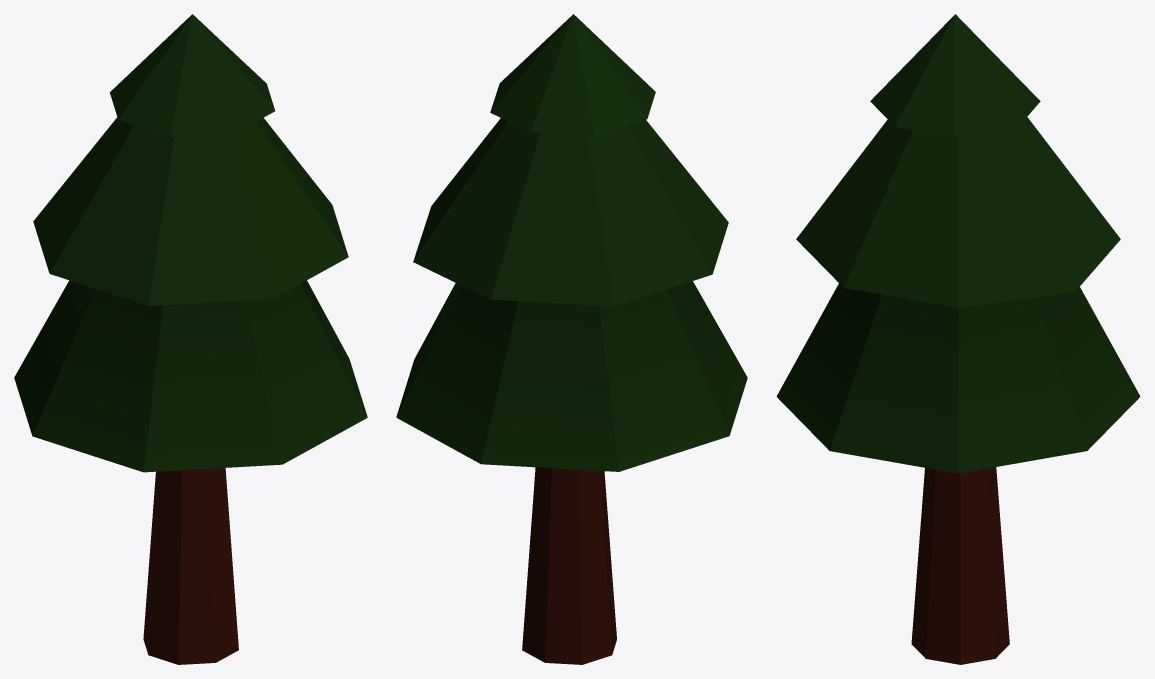
File: Tree1.fbx
The picture shows the model from 3 angles, left to right: view 1: azimuth 30°, elevation 25°; view 2: azimuth 150°, elevation 25°; view 3: azimuth 270°, elevation 25°; orthographic projection.
Visible parts, largest first — view 1: pine; view 2: pine; view 3: pine.
Boxes of the visible parts, <box> form: pine: <box>14,14,367,664</box>; pine: <box>396,14,747,664</box>; pine: <box>776,14,1140,664</box>.
Size of the model in its own units: 1.74 by 3.31 by 1.74.
